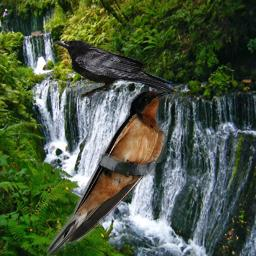Crow: (54, 39, 174, 100)
Swallow: (41, 86, 171, 256)
